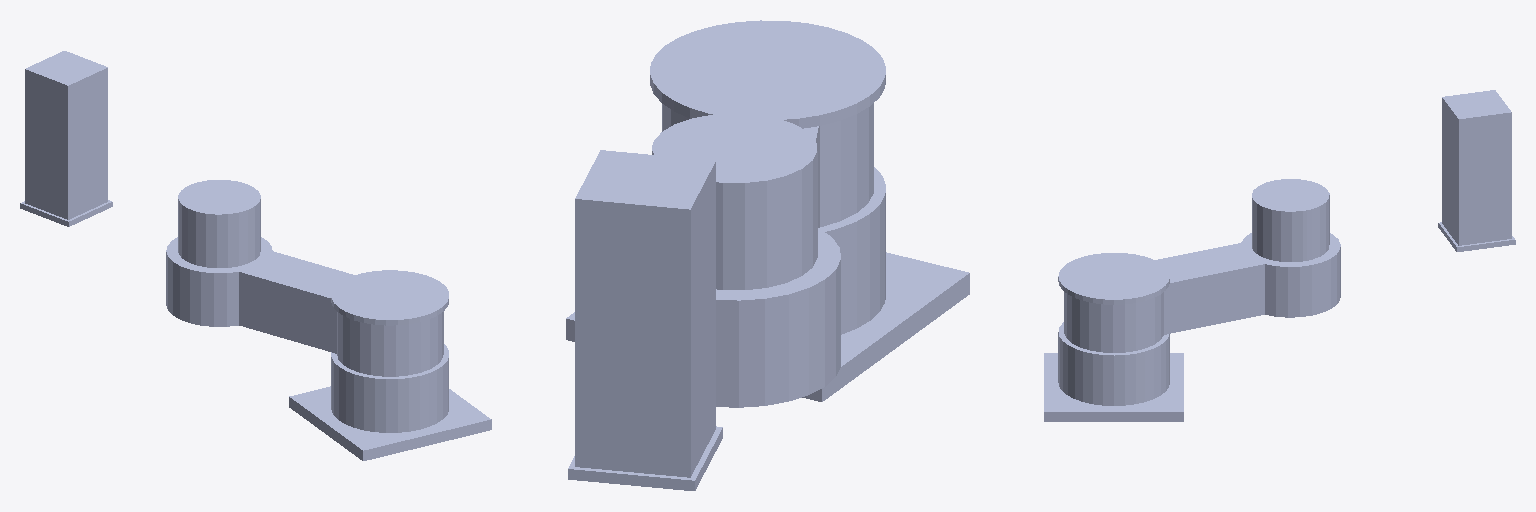
The robot description file, URDF, robot "3D_CAD_Scara3":
<?xml version="1.0" encoding="utf-8"?>
<!-- This URDF was automatically created by SolidWorks to URDF Exporter! Originally created by Stephen Brawner (brawner@gmail.com) 
     Commit Version: 1.6.0-4-g7f85cfe  Build Version: 1.6.7995.38578
     For more information, please see http://wiki.ros.org/sw_urdf_exporter -->
<robot
  name="3D_CAD_Scara3">
  <link
    name="base_link">
    <inertial>
      <origin
        xyz="6.93889390390723E-18 0 0.0904371532311637"
        rpy="0 0 0" />
      <mass
        value="6.24513231920778" />
      <inertia
        ixx="0.045813663764175"
        ixy="-1.83410298930598E-34"
        ixz="-9.63986159491796E-19"
        iyy="0.045813663764175"
        iyz="1.43970158963705E-18"
        izz="0.0340710749087118" />
    </inertial>
    <visual>
      <origin
        xyz="0 0 0"
        rpy="0 0 0" />
      <geometry>
        <mesh
          filename="package://3D_CAD_Scara3/meshes/base_link.STL" />
      </geometry>
      <material
        name="">
        <color
          rgba="0.792156862745098 0.819607843137255 0.933333333333333 1" />
      </material>
    </visual>
    <collision>
      <origin
        xyz="0 0 0"
        rpy="0 0 0" />
      <geometry>
        <mesh
          filename="package://3D_CAD_Scara3/meshes/base_link.STL" />
      </geometry>
    </collision>
  </link>
  <link
    name="Link01_Link">
    <inertial>
      <origin
        xyz="-0.108718719423471 0.228708834742551 0.0223525896423132"
        rpy="0 0 0" />
      <mass
        value="6.88681009624485" />
      <inertia
        ixx="0.125015182899651"
        ixy="0.0453744091696002"
        ixz="0.00639514888367059"
        iyy="0.0511312971194747"
        iyz="-0.0134533138078305"
        izz="0.140762682864953" />
    </inertial>
    <visual>
      <origin
        xyz="0 0 0"
        rpy="0 0 0" />
      <geometry>
        <mesh
          filename="package://3D_CAD_Scara3/meshes/Link01_Link.STL" />
      </geometry>
      <material
        name="">
        <color
          rgba="0.792156862745098 0.819607843137255 0.933333333333333 1" />
      </material>
    </visual>
    <collision>
      <origin
        xyz="0 0 0"
        rpy="0 0 0" />
      <geometry>
        <mesh
          filename="package://3D_CAD_Scara3/meshes/Link01_Link.STL" />
      </geometry>
    </collision>
  </link>
  <joint
    name="Joint01_joint"
    type="continuous">
    <origin
      xyz="0 0 0.17"
      rpy="0 0 0" />
    <parent
      link="base_link" />
    <child
      link="Link01_Link" />
    <axis
      xyz="0 0 1" />
  </joint>
  <link
    name="Link02_Link">
    <inertial>
      <origin
        xyz="-0.0525733207044835 0.166295855315663 0.00387140852064086"
        rpy="0 0 0" />
      <mass
        value="4.46317135032902" />
      <inertia
        ixx="0.0887061117835053"
        ixy="0.0237967620851692"
        ixz="-0.000908401769550144"
        iyy="0.0209028701891951"
        iyz="0.00287338610560167"
        izz="0.100921848562148" />
    </inertial>
    <visual>
      <origin
        xyz="0 0 0"
        rpy="0 0 0" />
      <geometry>
        <mesh
          filename="package://3D_CAD_Scara3/meshes/Link02_Link.STL" />
      </geometry>
      <material
        name="">
        <color
          rgba="0.792156862745098 0.819607843137255 0.933333333333333 1" />
      </material>
    </visual>
    <collision>
      <origin
        xyz="0 0 0"
        rpy="0 0 0" />
      <geometry>
        <mesh
          filename="package://3D_CAD_Scara3/meshes/Link02_Link.STL" />
      </geometry>
    </collision>
  </link>
  <joint
    name="joint02_joint"
    type="continuous">
    <origin
      xyz="-0.15026 0.3161 0.1"
      rpy="0 0 0" />
    <parent
      link="Link01_Link" />
    <child
      link="Link02_Link" />
    <axis
      xyz="0 0 1" />
  </joint>
  <link
    name="Link03_Link">
    <inertial>
      <origin
        xyz="3.44169137633799E-15 -4.9960036108132E-16 -0.0989984738649372"
        rpy="0 0 0" />
      <mass
        value="2.621" />
      <inertia
        ixx="0.0171776793272288"
        ixy="-8.67361737988404E-19"
        ixz="-1.59488048691292E-18"
        iyy="0.0171776793272288"
        iyz="-1.31125958736073E-18"
        izz="0.00441068333333334" />
    </inertial>
    <visual>
      <origin
        xyz="0 0 0"
        rpy="0 0 0" />
      <geometry>
        <mesh
          filename="package://3D_CAD_Scara3/meshes/Link03_Link.STL" />
      </geometry>
      <material
        name="">
        <color
          rgba="0.792156862745098 0.819607843137255 0.933333333333333 1" />
      </material>
    </visual>
    <collision>
      <origin
        xyz="0 0 0"
        rpy="0 0 0" />
      <geometry>
        <mesh
          filename="package://3D_CAD_Scara3/meshes/Link03_Link.STL" />
      </geometry>
    </collision>
  </link>
  <joint
    name="joint03_joint"
    type="prismatic">
    <origin
      xyz="-0.10545 0.33374 -0.05"
      rpy="-3.1416 0 1.8765" />
    <parent
      link="Link02_Link" />
    <child
      link="Link03_Link" />
    <axis
      xyz="0 0 1" />
    <limit
      lower="0"
      upper="0.130"
      effort="0"
      velocity="0" />
  </joint>
  <link
    name="End_efector_Link">
    <inertial>
      <origin
        xyz="0 0 -0.128998473864937"
        rpy="0 0 0" />
      <mass
        value="2.621" />
      <inertia
        ixx="0.0171776793272288"
        ixy="5.9557004103818E-19"
        ixz="-7.15550757496675E-19"
        iyy="0.0171776793272288"
        iyz="2.09266864430982E-18"
        izz="0.00441068333333334" />
    </inertial>
    <visual>
      <origin
        xyz="0 0 0"
        rpy="0 0 0" />
      <geometry>
        <mesh
          filename="package://3D_CAD_Scara3/meshes/End_efector_Link.STL" />
      </geometry>
      <material
        name="">
        <color
          rgba="0.792156862745098 0.819607843137255 0.933333333333333 1" />
      </material>
    </visual>
    <collision>
      <origin
        xyz="0 0 0"
        rpy="0 0 0" />
      <geometry>
        <mesh
          filename="package://3D_CAD_Scara3/meshes/End_efector_Link.STL" />
      </geometry>
    </collision>
  </link>
  <joint
    name="Endefector_joint"
    type="fixed">
    <origin
      xyz="0 0 0.03"
      rpy="0 0 1.8765" />
    <parent
      link="Link03_Link" />
    <child
      link="End_efector_Link" />
    <axis
      xyz="0 0 0" />
  </joint>
</robot>

--- Render facts (derived) ---
3 views of the same robot in one strip: view 1: azimuth 30°, elevation 25°; view 2: azimuth 150°, elevation 25°; view 3: azimuth 270°, elevation 25° (orthographic).
Model 3D_CAD_Scara3 with 5 links and 4 joints (2 continuous, 1 prismatic, 1 fixed), rooted at base_link, posed all joints at 0.
Links seen in each view (by area): view 1: Link01_Link, base_link, Link03_Link, End_efector_Link; view 2: Link01_Link, base_link, Link03_Link, End_efector_Link; view 3: Link01_Link, base_link, Link03_Link, End_efector_Link.
Link boxes in pixels (x1,y1,x2,y2): Link01_Link: (166, 180, 443, 376); base_link: (289, 270, 491, 460); Link03_Link: (20, 51, 110, 226); End_efector_Link: (22, 51, 112, 226); Link01_Link: (652, 103, 873, 407); base_link: (566, 20, 969, 401); Link03_Link: (568, 150, 719, 490); End_efector_Link: (568, 160, 722, 490); Link01_Link: (1064, 179, 1340, 352); base_link: (1044, 253, 1183, 421); Link03_Link: (1438, 90, 1513, 251); End_efector_Link: (1440, 91, 1515, 251).
Bounding box of the posed robot: 0.4497 × 0.8438 × 0.45 m (x, y, z).
Meshes: 5 distinct files referenced, 4 mesh visuals loaded (4 binary STL); not drawn: 1 (reference not matched to a file when rendering).
